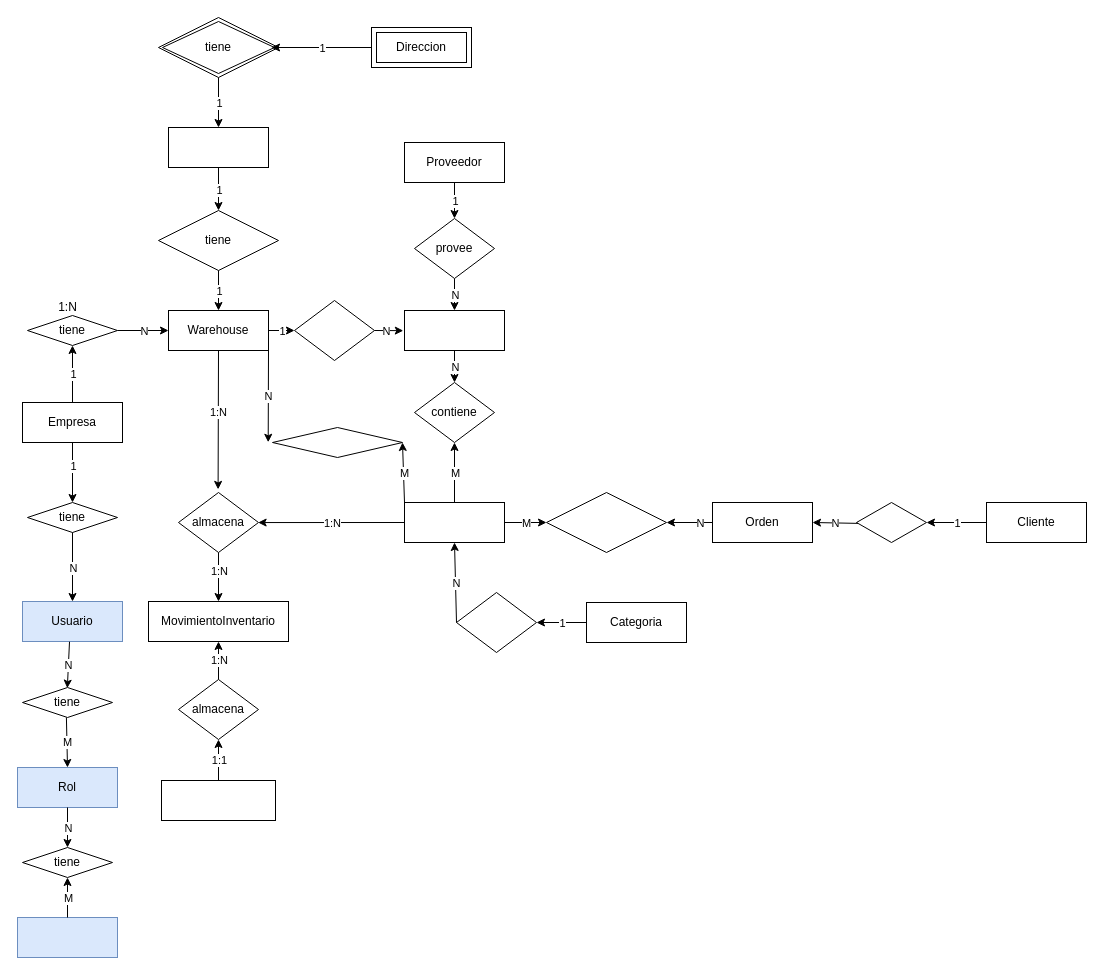
Some shapes in this 1104 by 975 pixel diagram are drawn without their labels. The shapes that lost their labels are listed below. From the top down, each one's centre as x and y in pixels, then its label:
At (218,147): "Ubicación".
At (334,330): "solicita".
At (454,330): "Pedido".
At (337,442): "mueve".
At (454,522): "Producto".
At (606,522): "posee".
At (891,522): "realiza".
At (496,622): "pertenece".
At (218,800): "TipoMovimiento".
At (67,937): "Menu".
